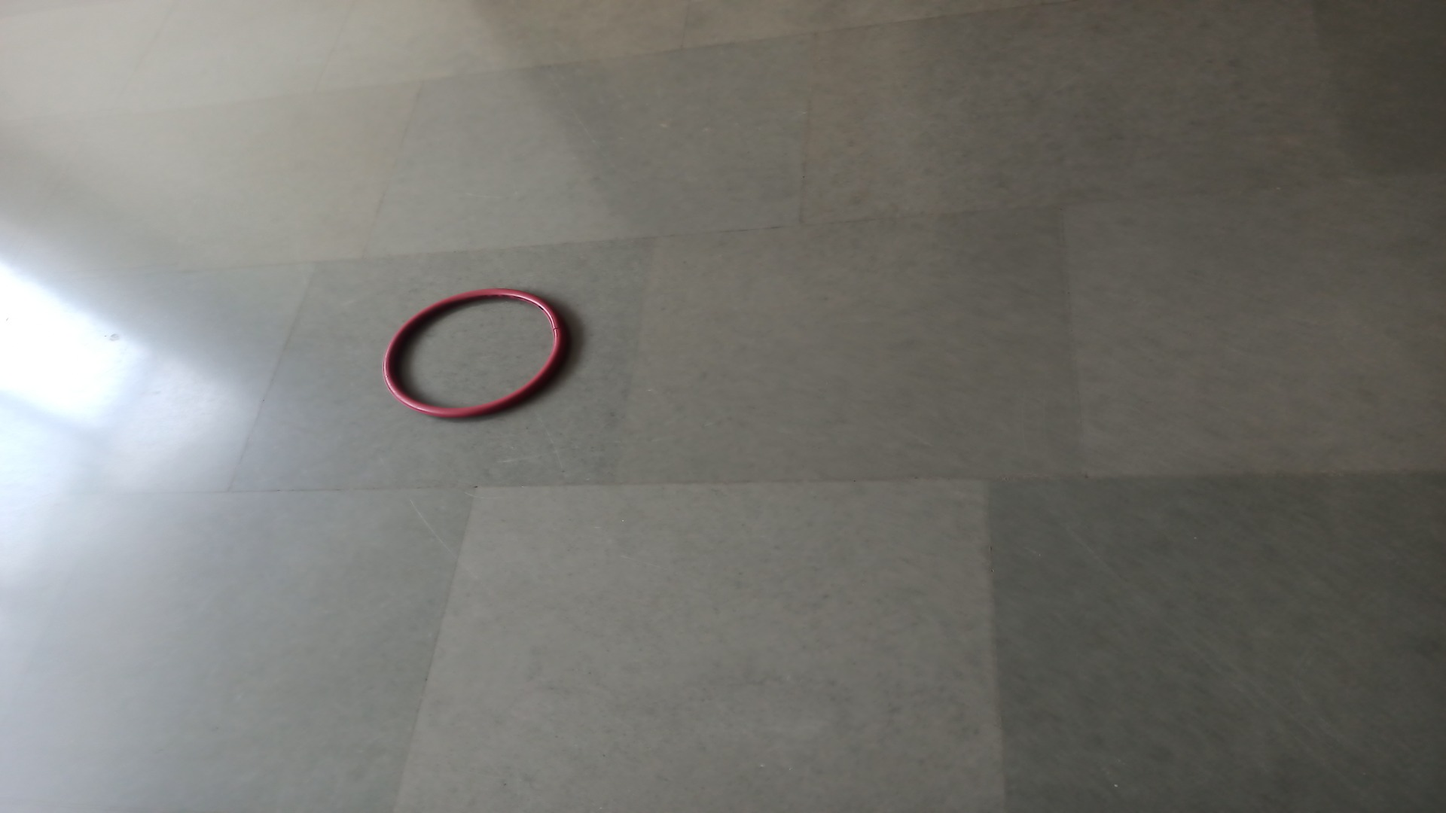Red ring: (380, 288, 571, 420)
